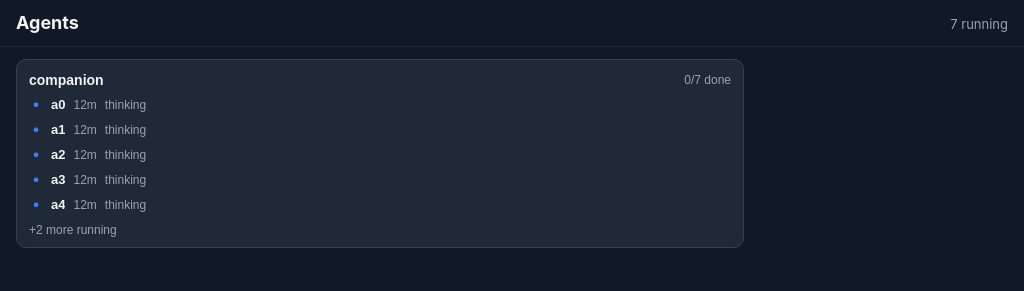
it: AgentsPage › +N more behind a fold
Expected: the text "a6" is not shown
What coordinates should you click on to do the following:
click the button "+2 more running"
I would click on:
 (73, 230)
Its box is [17,217,743,241].
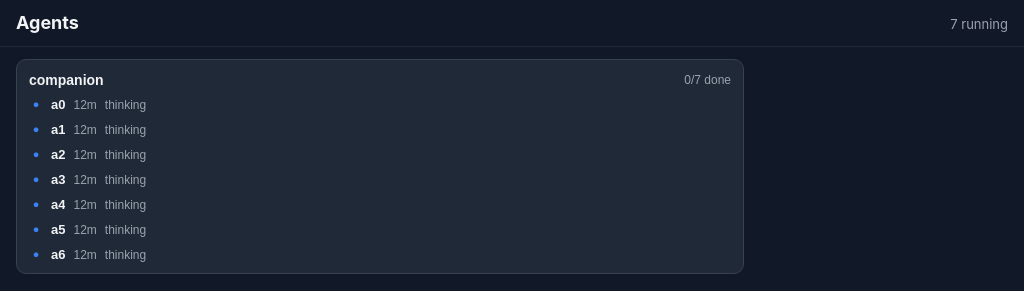
Expected: the text "a6" is shown, [51,247,66,262]
